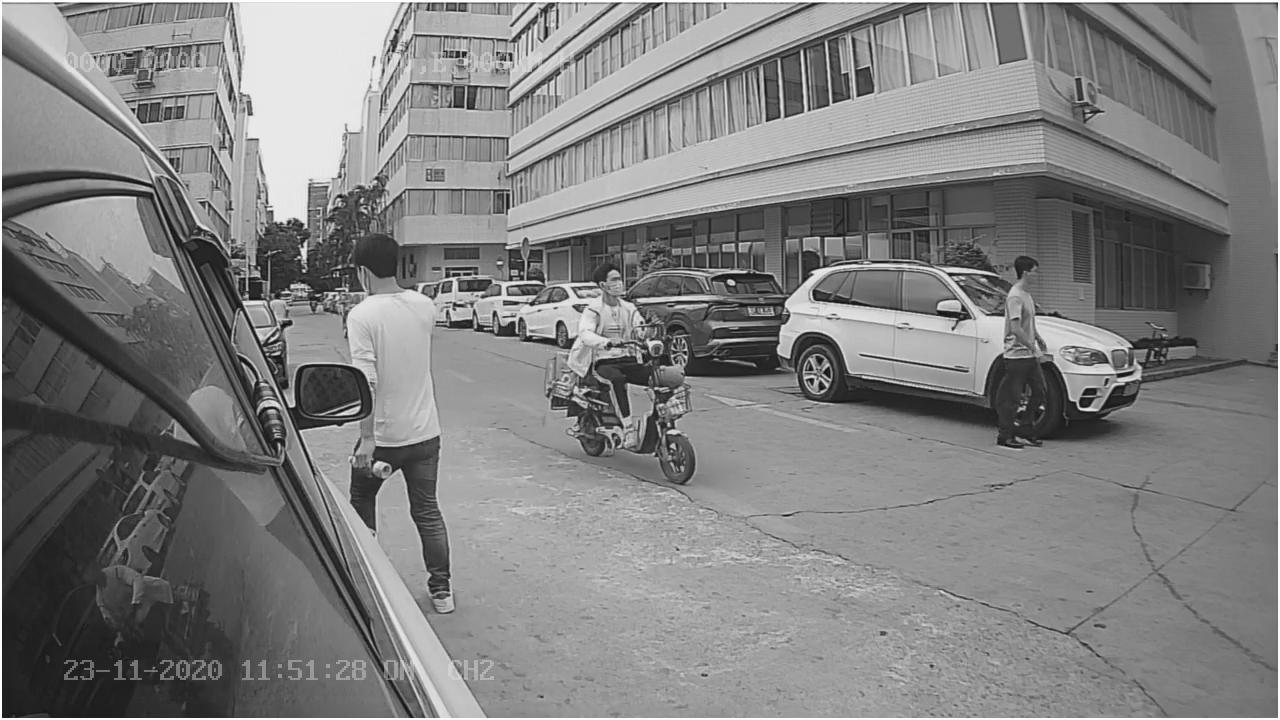person: (988, 246, 1063, 450), (341, 225, 441, 353), (575, 255, 657, 346)
